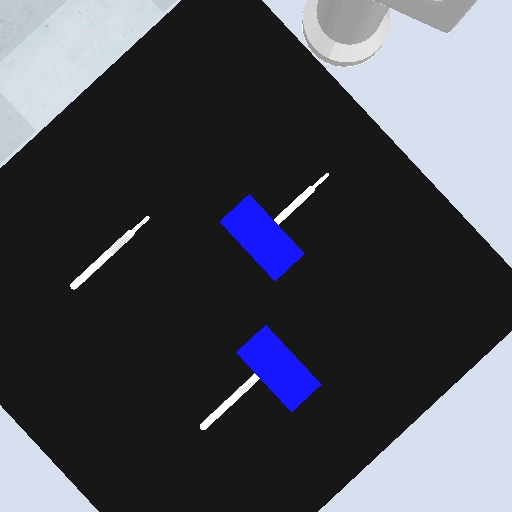bisturi: (66, 214, 154, 293), (197, 371, 263, 432), (270, 171, 332, 227)
